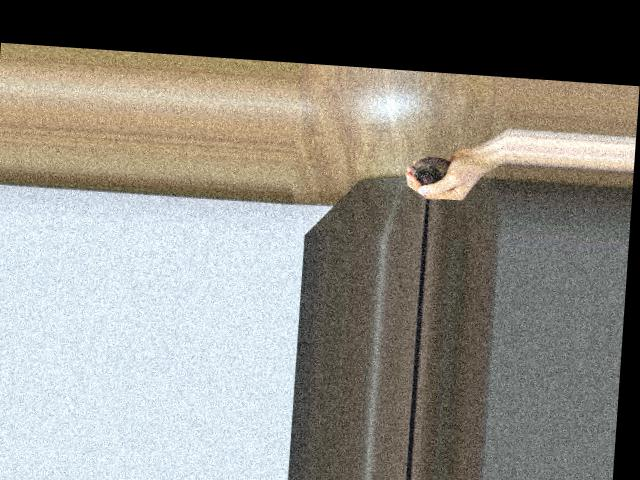beet: (407, 155, 450, 213)
